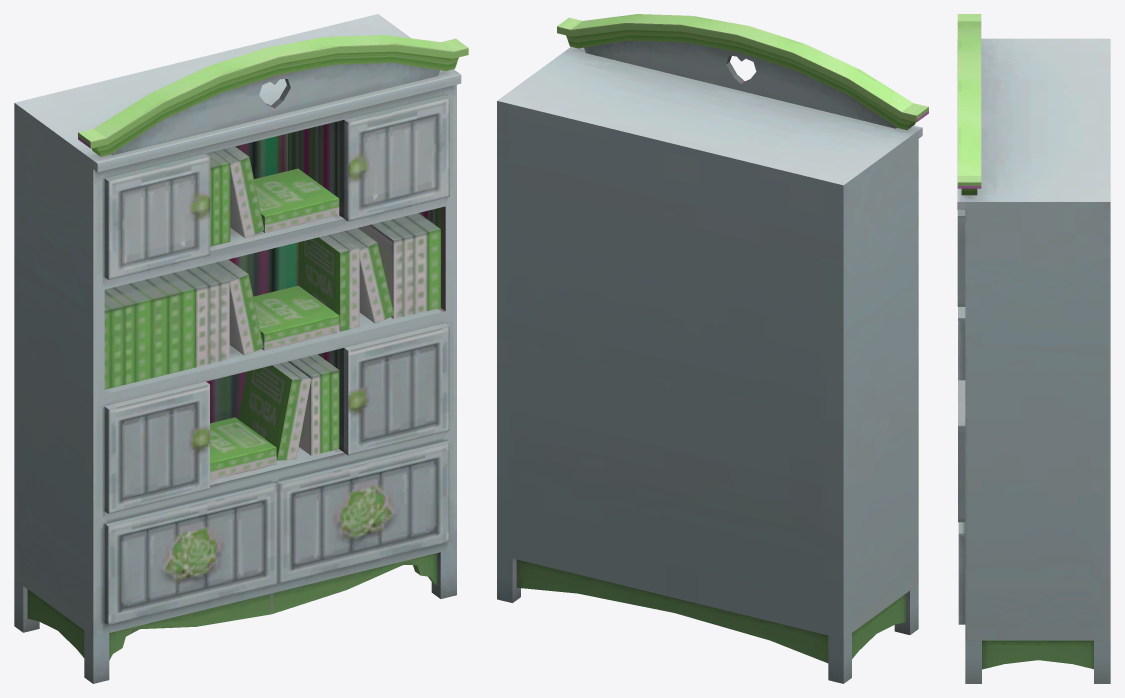
File: furni_0200615_02.FBX
3 renders of one model, left to right at view 1: azimuth 30°, elevation 25°; view 2: azimuth 150°, elevation 25°; view 3: azimuth 270°, elevation 25°, orthographic. The views are drawn at different scales.
Parts seen in each view (by area): view 1: furni_0200615_02; view 2: furni_0200615_02; view 3: furni_0200615_02.
Boxes of the visible parts, x1,y1,x2,y2 form: furni_0200615_02: (14, 14, 468, 683); furni_0200615_02: (497, 14, 928, 683); furni_0200615_02: (957, 14, 1110, 683).
Size of the model in its own units: 166 by 246 by 63.29.
Materials: 1 (1 with a texture image).
